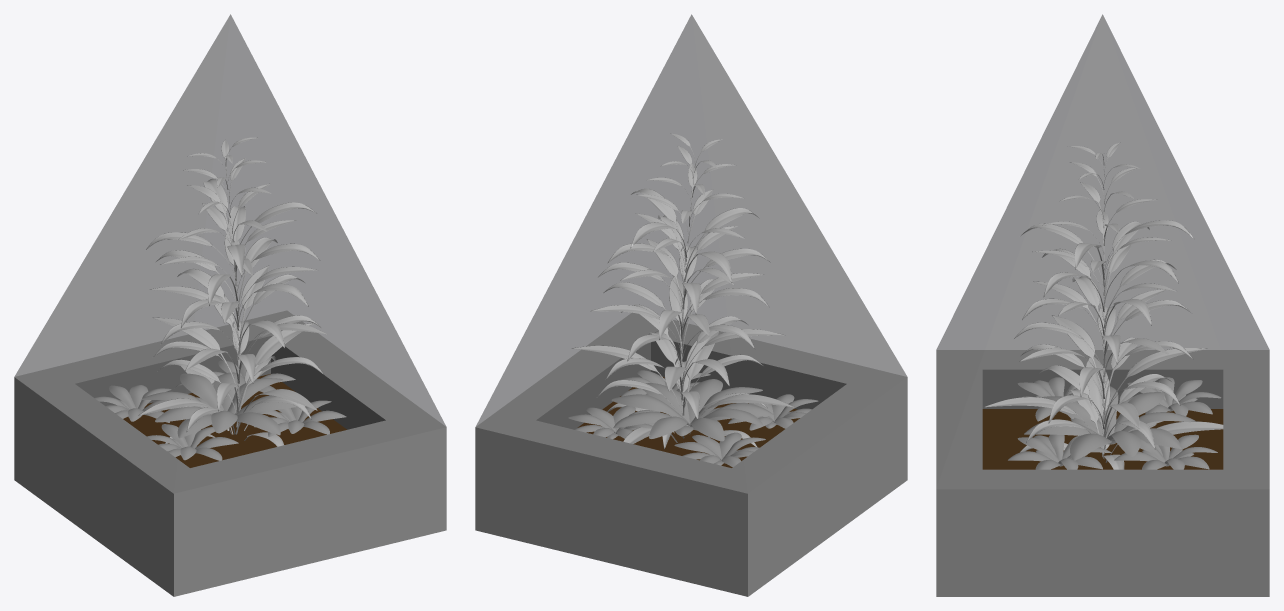
The model's file is Planta_Decoração.fbx.
3 renders of one model, left to right at view 1: azimuth 30°, elevation 25°; view 2: azimuth 150°, elevation 25°; view 3: azimuth 270°, elevation 25°, orthographic. The views are drawn at different scales.
Parts seen in each view (by area): view 1: Jarro, Planta Maior, Planta Menor; view 2: Jarro, Planta Maior, Planta Menor; view 3: Jarro, Planta Maior, Planta Menor.
Part boxes in pixels (bbox=[...]): Jarro: bbox=[14, 14, 446, 596]; Planta Maior: bbox=[138, 137, 327, 446]; Planta Menor: bbox=[94, 360, 346, 460]; Jarro: bbox=[475, 14, 907, 596]; Planta Maior: bbox=[571, 133, 794, 448]; Planta Menor: bbox=[568, 370, 818, 467]; Jarro: bbox=[936, 14, 1269, 596]; Planta Maior: bbox=[983, 142, 1223, 469]; Planta Menor: bbox=[1008, 377, 1221, 469].
Size of the model in its own units: 71.33 by 123 by 72.27.
